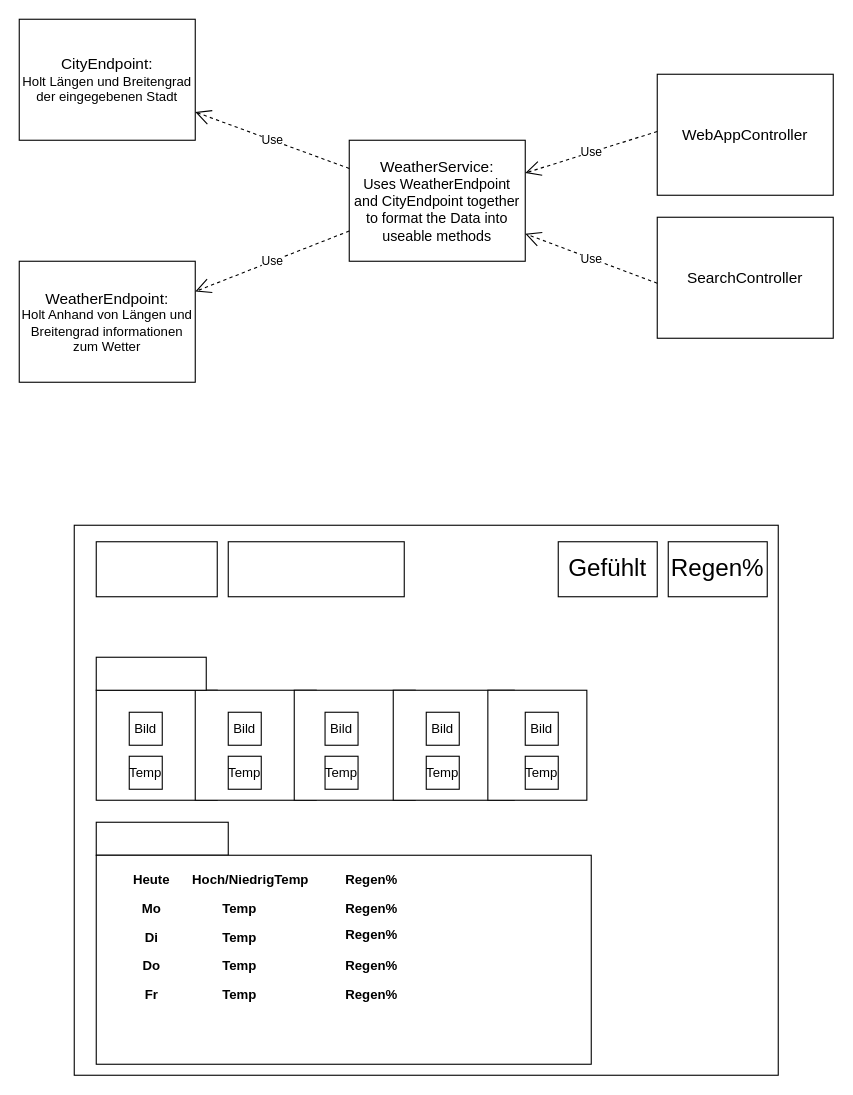
Image size: 853x1095. Some labels were removed from this diagram. The shapes that lost their labels are listed below. From the top down, each one's centre as x and y in pixels, then its label:
[156,569]: Temp / Uhrzeit
[315,569]: Stadt
[150,673]: Vorhersage: Stündlich
[161,838]: Vorhersage Täglich
